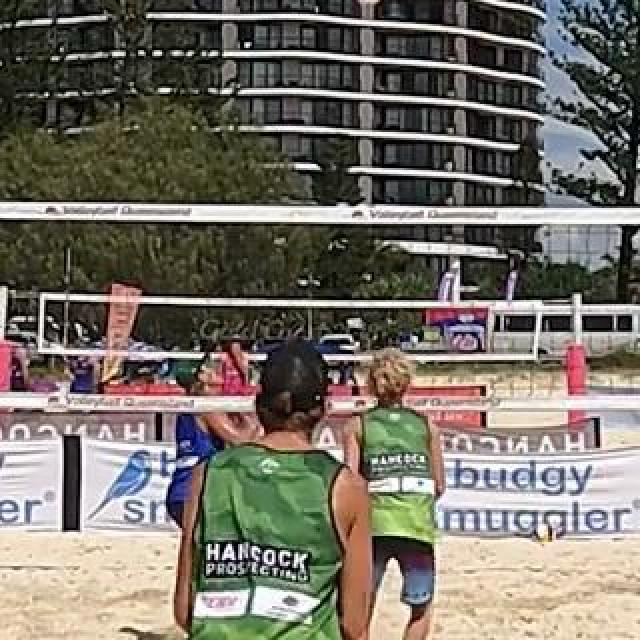volleyball: (531, 522, 555, 544)
